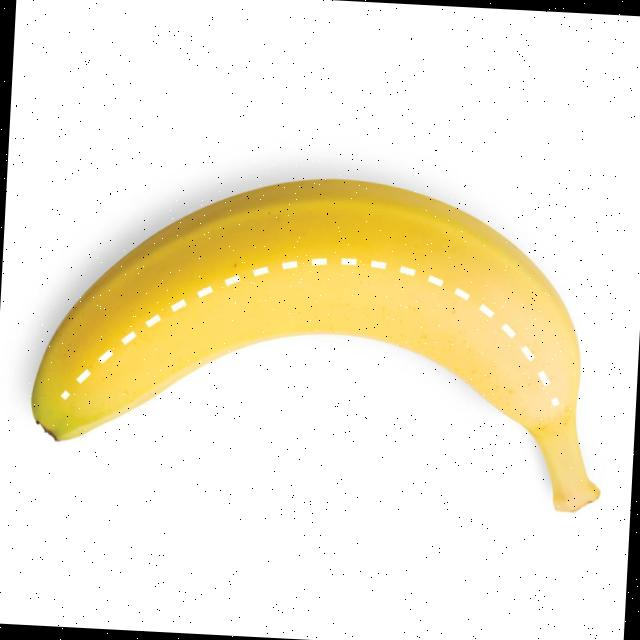Pisang: (25, 163, 616, 516)
